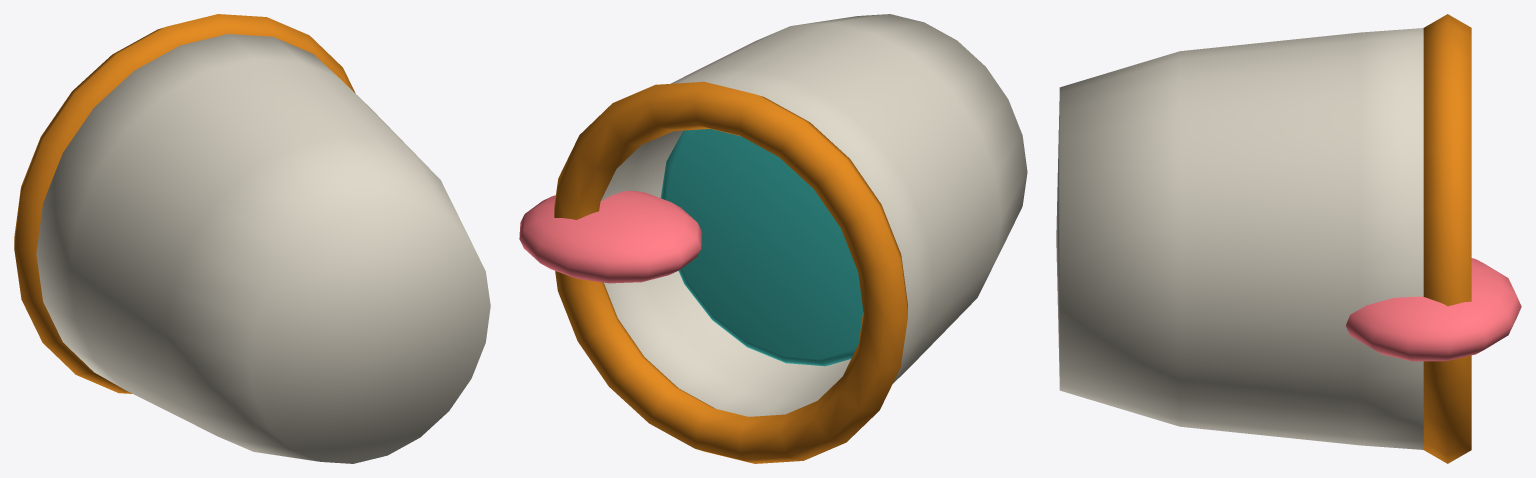
File: BalconySideTableGlass_Premium.fbx
3 renders of one model, left to right at view 1: azimuth 30°, elevation 25°; view 2: azimuth 150°, elevation 25°; view 3: azimuth 270°, elevation 25°, orthographic. The views are drawn at different scales.
Parts seen in each view (by area): view 1: BalconySideTableGlass; view 2: BalconySideTableGlass; view 3: BalconySideTableGlass.
Part boxes in pixels (box(x1,y1,x2,y2)): BalconySideTableGlass: box(14, 14, 490, 463); BalconySideTableGlass: box(519, 14, 1027, 463); BalconySideTableGlass: box(1056, 14, 1521, 463).
Size of the model in its own units: 0.1581 by 0.1445 by 0.151.
